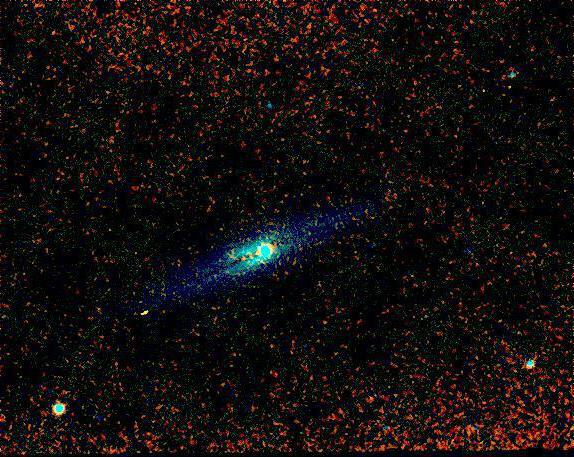star: (228, 241, 258, 271)
